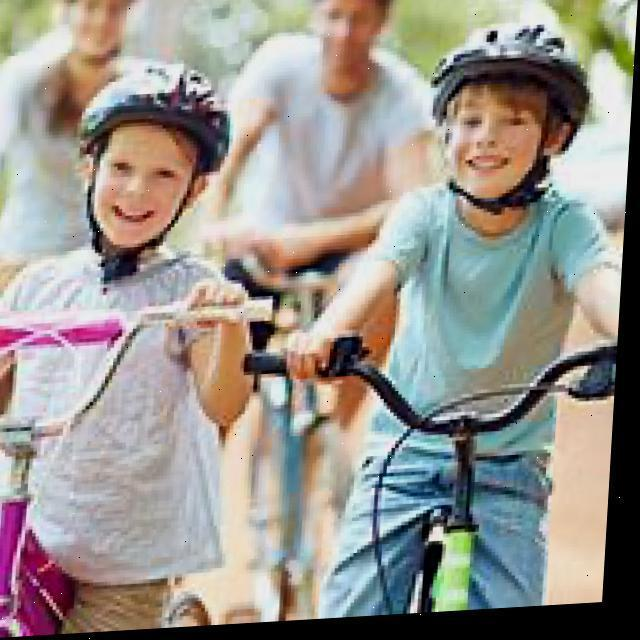Helmet: (62, 45, 246, 278), (419, 11, 606, 218)
